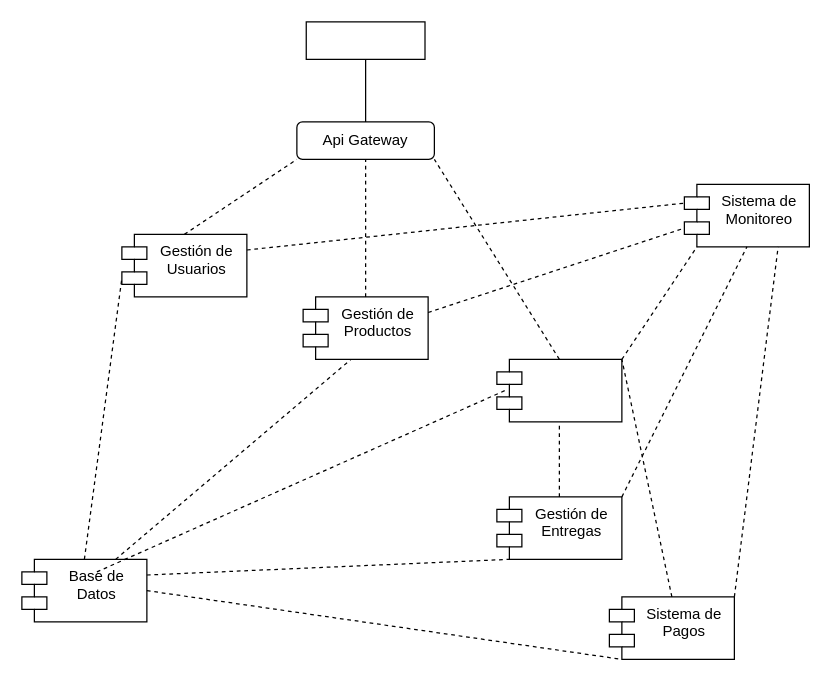
The diagram is 831 pixels wide and 683 high, and some of its shapes have lost their labels. The shapes that lost their labels are listed below. From the top down, each one's centre as x and y in pixels, then its label:
point (365, 40): FRONTED
point (559, 390): Gestión de Órdenes
